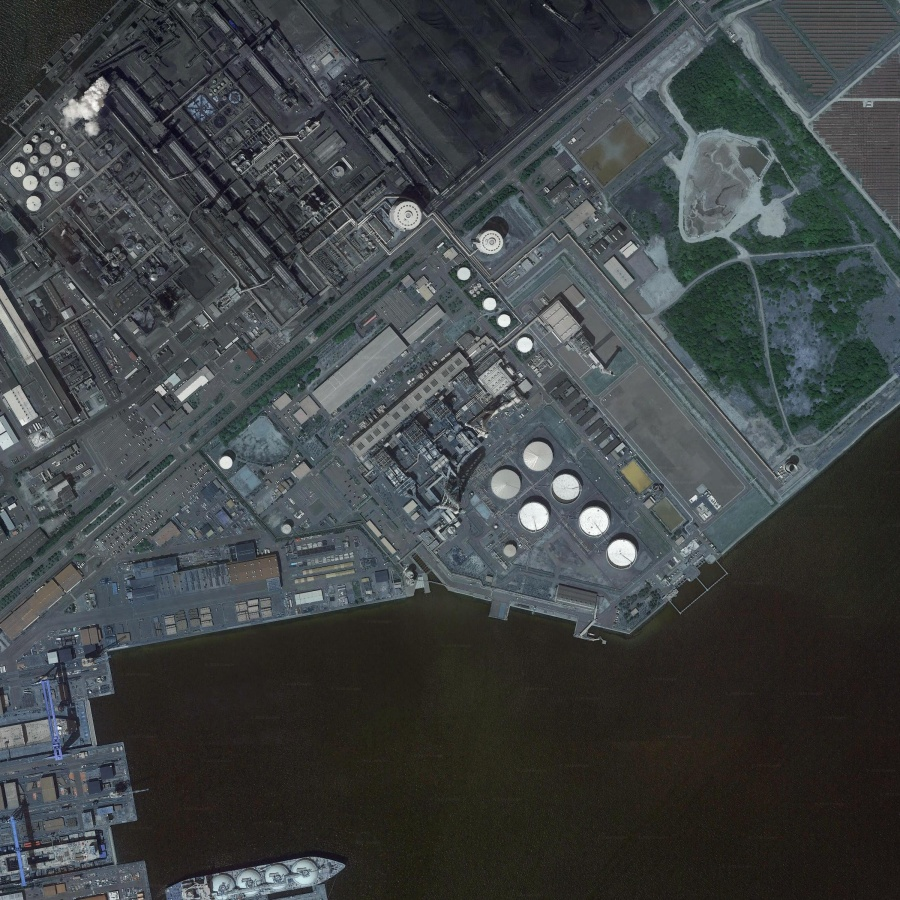PowerPlant: (358, 188, 659, 567)
